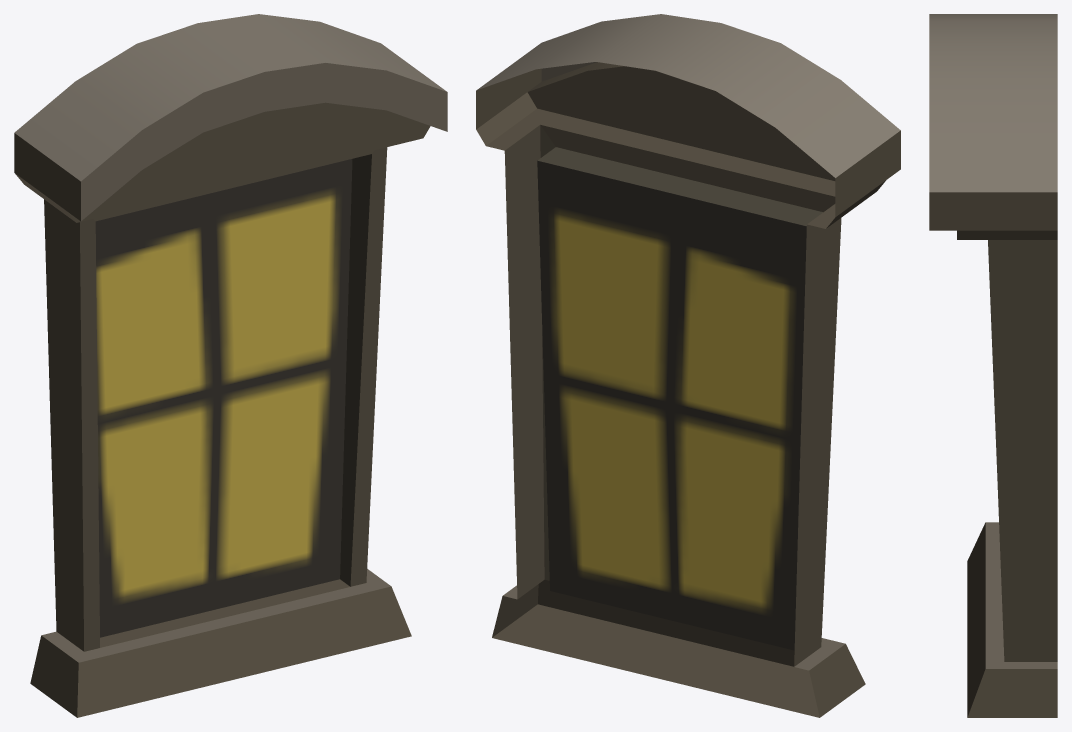
File: Window_C07.fbx
The picture shows the model from 3 angles, left to right: view 1: azimuth 30°, elevation 25°; view 2: azimuth 150°, elevation 25°; view 3: azimuth 270°, elevation 25°; orthographic projection. The views are drawn at different scales.
Visible parts, largest first — view 1: Window_C07; view 2: Window_C07; view 3: Window_C07.
Part boxes in pixels (x1,y1,x2,y2): Window_C07: (14, 14, 447, 717); Window_C07: (476, 14, 900, 717); Window_C07: (929, 14, 1057, 717).
Size of the model in its own units: 181 by 292 by 56.94.
